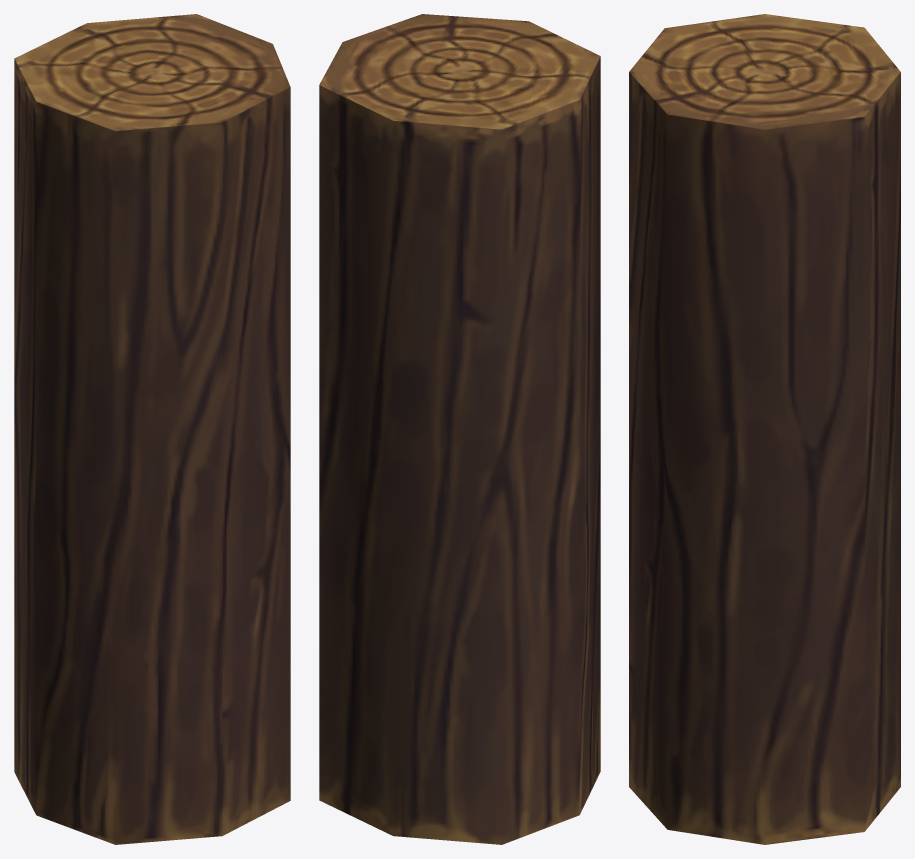
Rendered from plank2.glb.
3 views of the same model, side by side, from view 1: azimuth 30°, elevation 25°; view 2: azimuth 150°, elevation 25°; view 3: azimuth 270°, elevation 25° (orthographic).
Parts seen in each view (by area): view 1: planks.006; view 2: planks.006; view 3: planks.006.
Boxes of the visible parts, left/top/right/bottom form: planks.006: left=14, top=14, right=290, bottom=844; planks.006: left=319, top=14, right=600, bottom=844; planks.006: left=629, top=14, right=900, bottom=844.
Size of the model in its own units: 58.62 by 169 by 58.16.
1 material, 1 textured.
